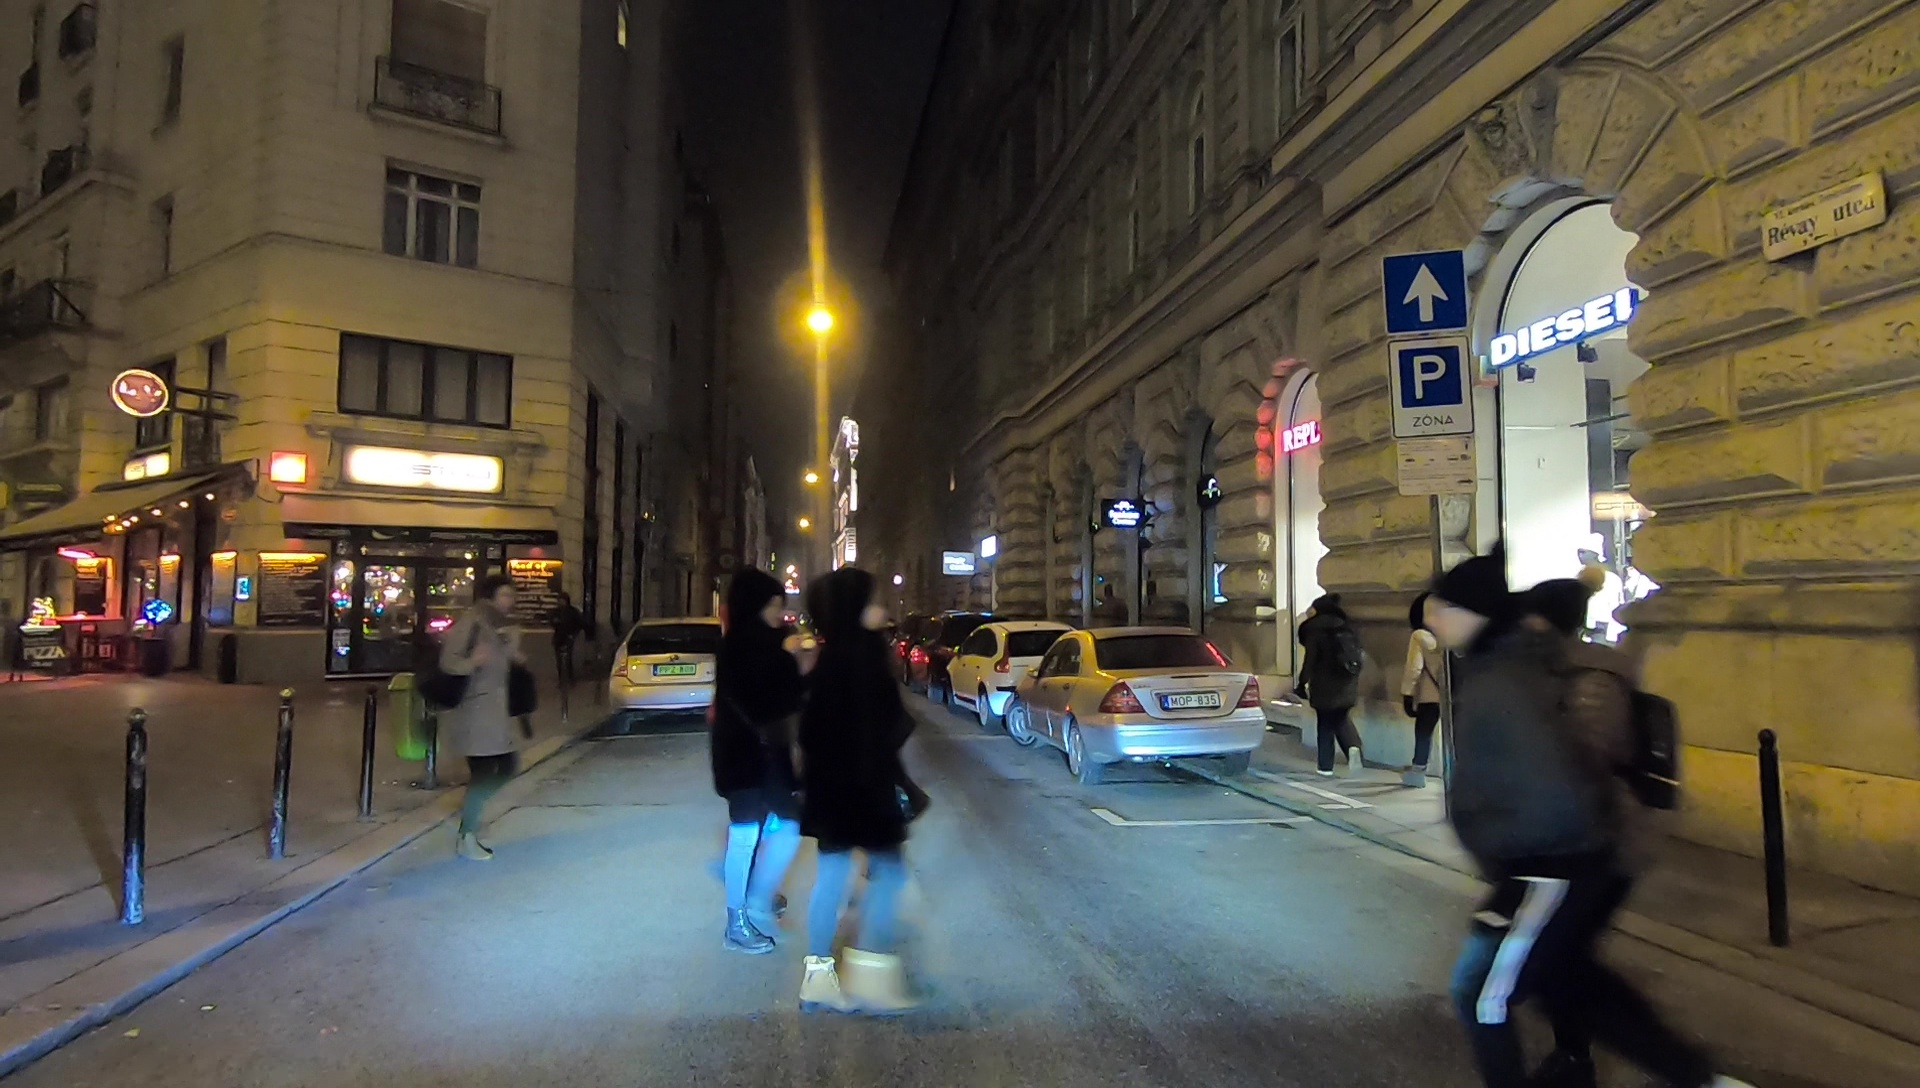person: (1526, 573, 1754, 1087), (1425, 543, 1569, 1084), (801, 565, 928, 1024), (426, 573, 532, 861), (725, 567, 801, 954), (1301, 584, 1375, 778), (545, 591, 588, 689)
